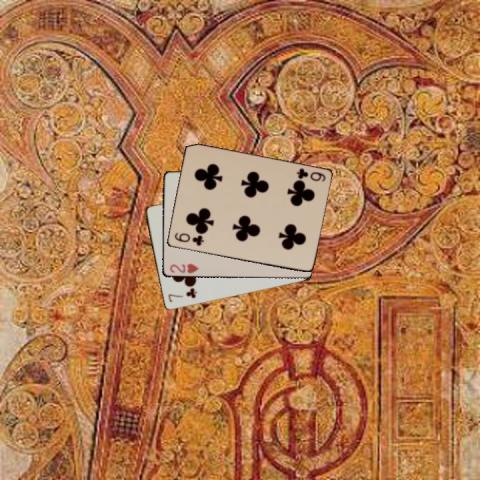2h: (167, 260, 199, 274)
6c: (171, 230, 205, 248), (293, 166, 327, 184)
7c: (165, 287, 198, 303)
